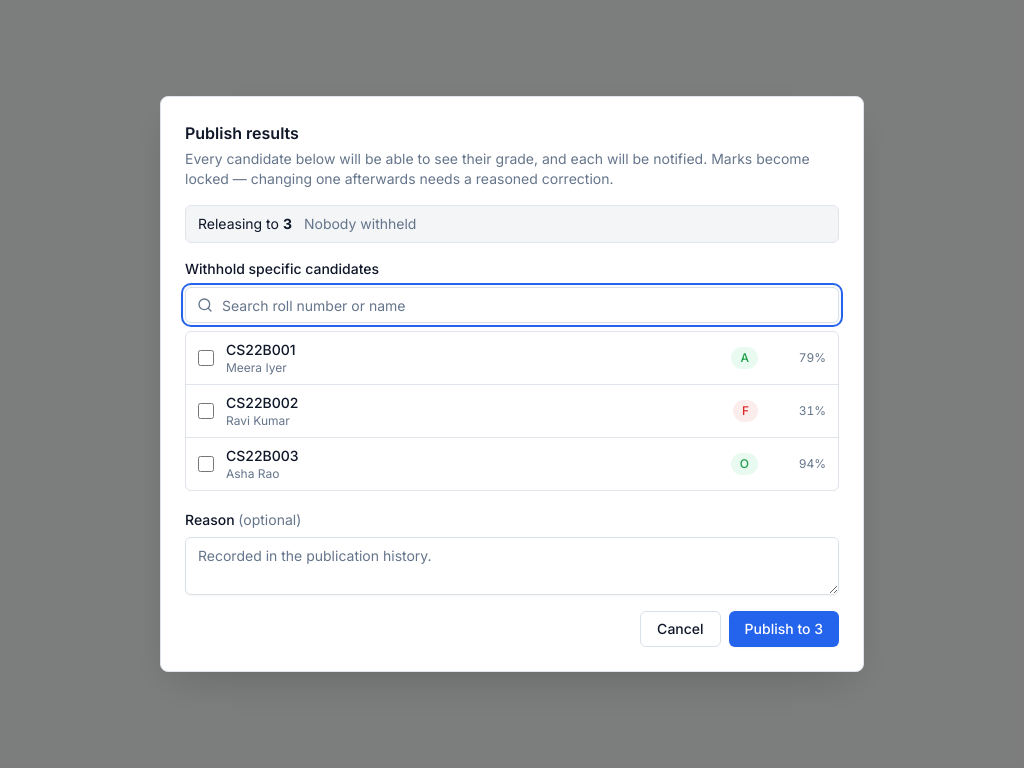
Test: PublishResultsDialog › refuses to publish when every candidate has been withheld
The image size is (1024, 768).
What coordinates should you click on to do the following:
click the checkbox labelled "CS22B001 Meera Iyer A 79%"
I would click on:
 (206, 358)
Its box is [198,350,214,366].
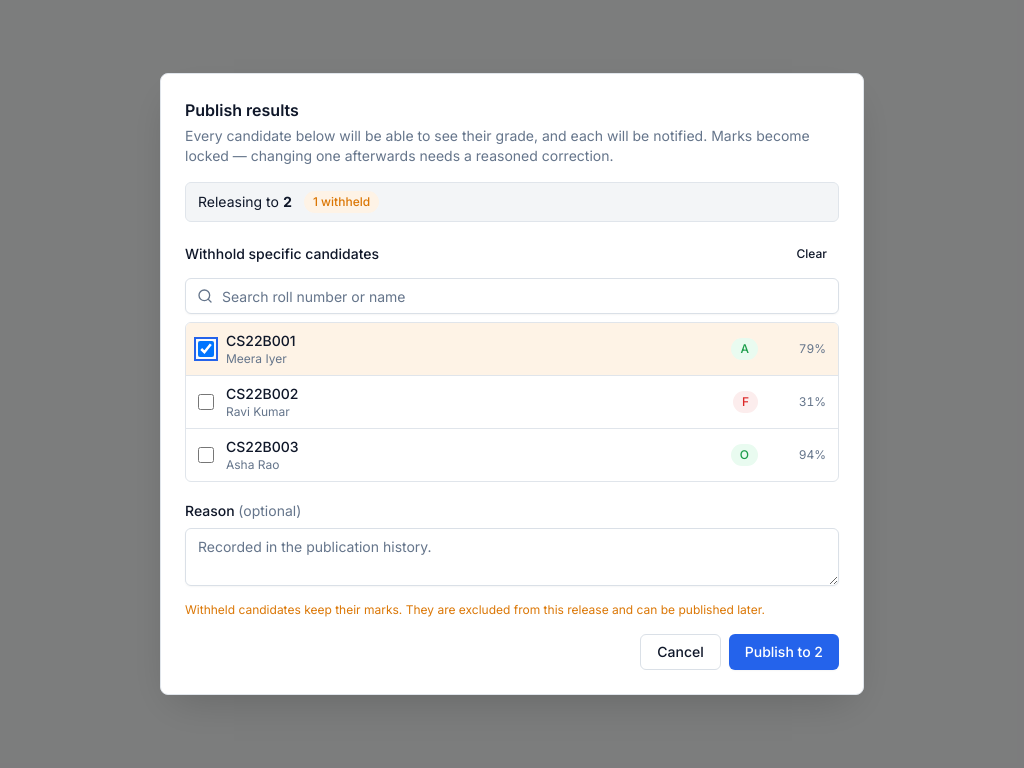
What coordinates should you click on to do the following:
click the checkbox labelled "CS22B002 Ravi Kumar F 31%"
I would click on:
 (206, 402)
Its box is [198,394,214,410].
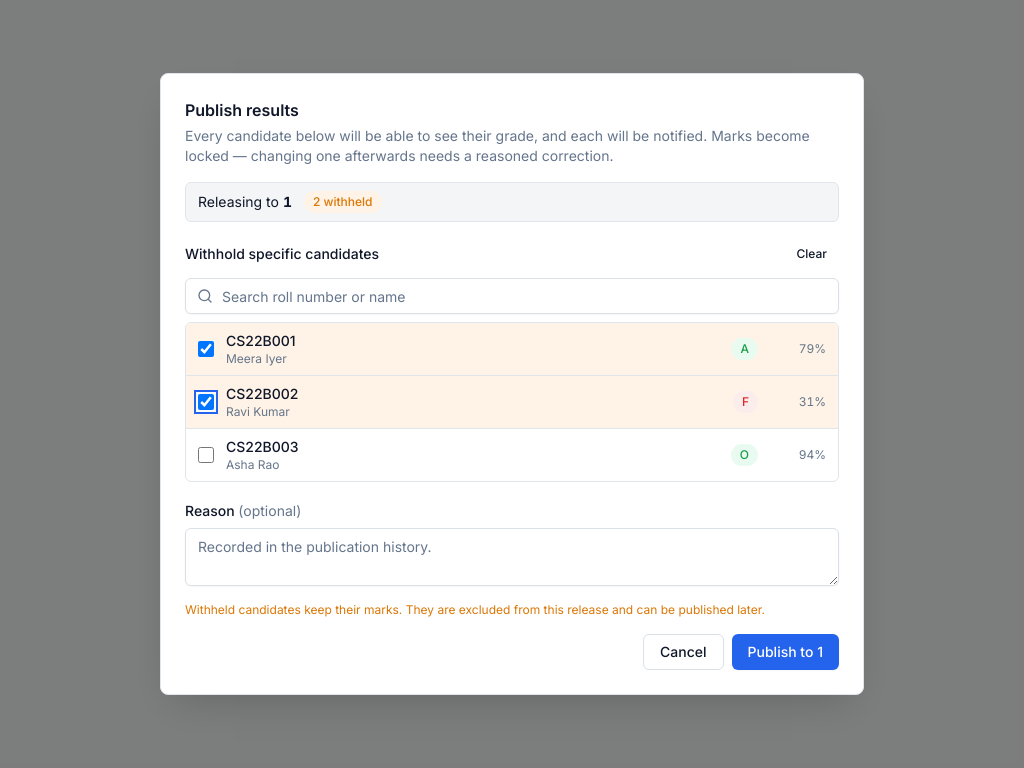
What coordinates should you click on to do the following:
click the checkbox labelled "CS22B003 Asha Rao O 94%"
I would click on:
 (206, 455)
Its box is [198,447,214,463].
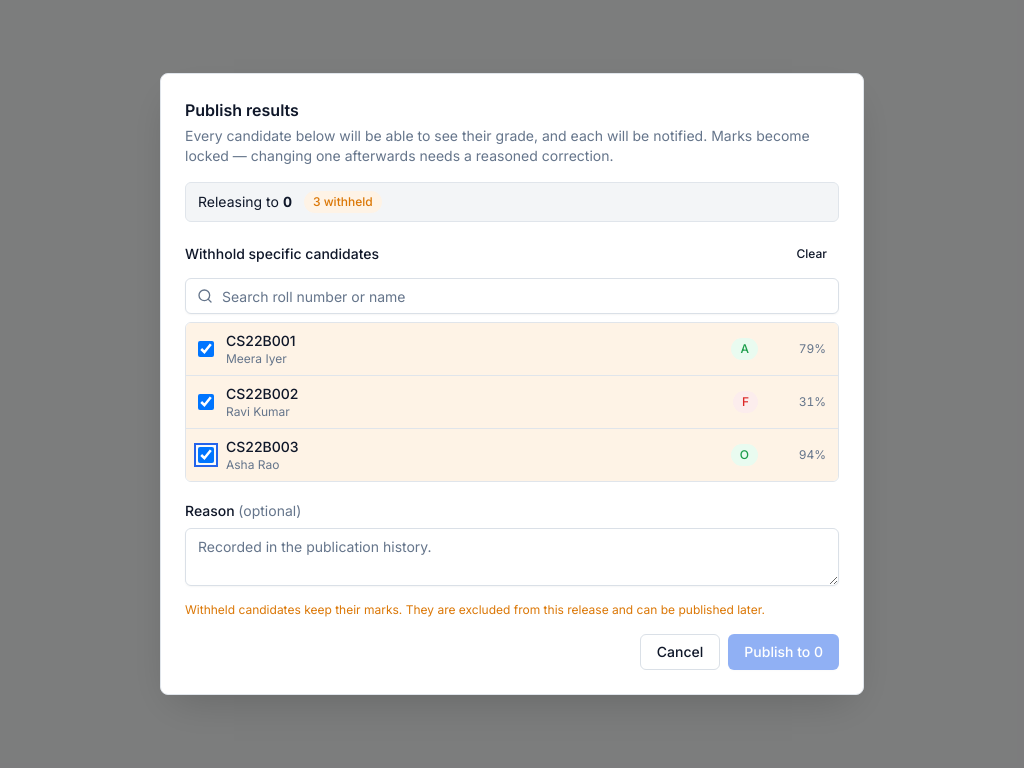
Result: the button "Publish to 0" is disabled at [728,634,839,670]
